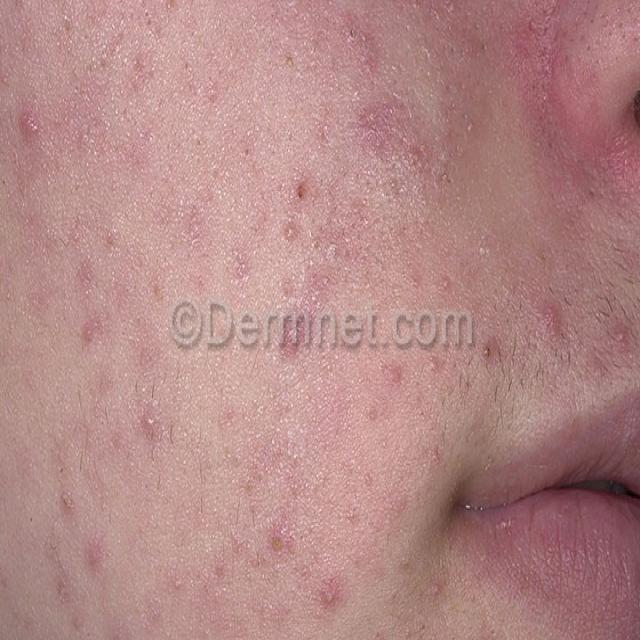Pimples: (280, 212, 300, 251), (21, 106, 40, 145), (476, 340, 498, 362), (321, 582, 339, 606), (143, 412, 156, 427), (620, 331, 630, 342), (175, 579, 180, 588)
